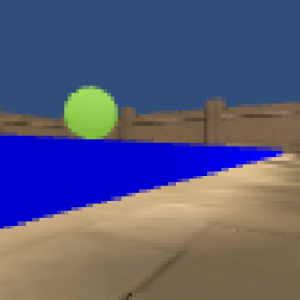goodGoal: (62, 84, 120, 139)
platform: (1, 136, 283, 222)
